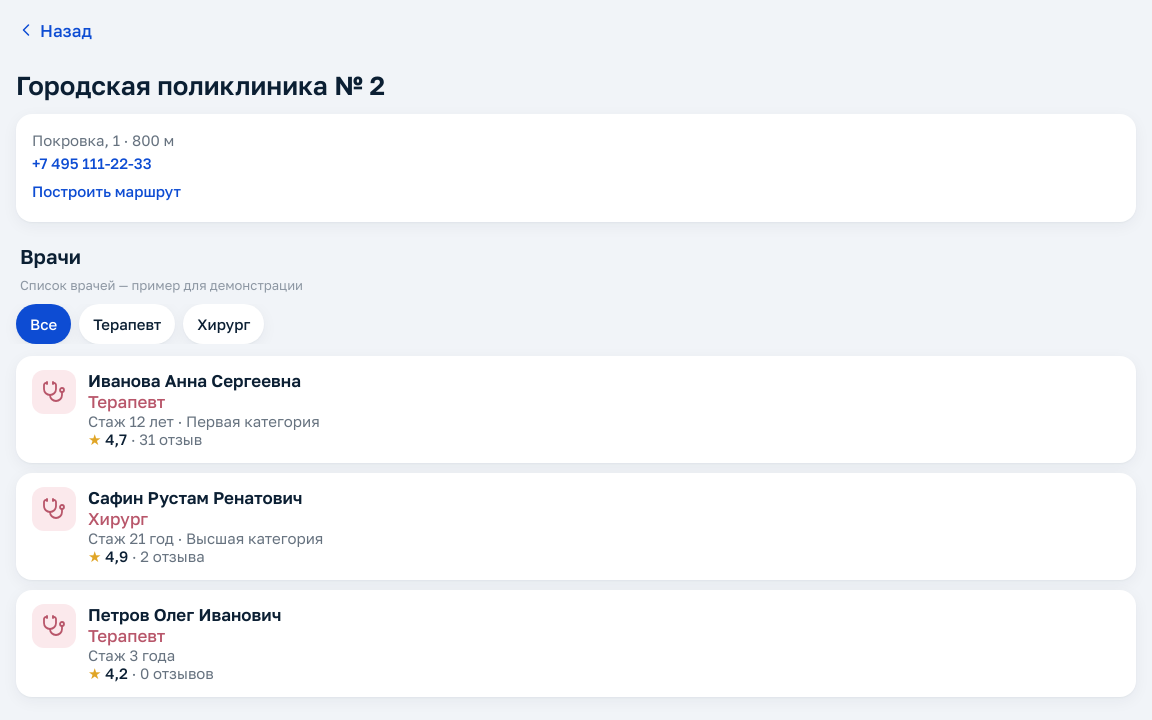
Test case: ClinicPage › показывает врачей со стажем и категорией, фильтрует по специальности
The image size is (1152, 720).
Check: the heading "Городская поликлиника № 2" is shown, box [16,70,385,101]
Check: the text "Список врачей — пример для демонстрации" is shown, box [20,277,303,293]
Click the button "Хирург" at coordinates (224, 324), box [183,304,264,344]
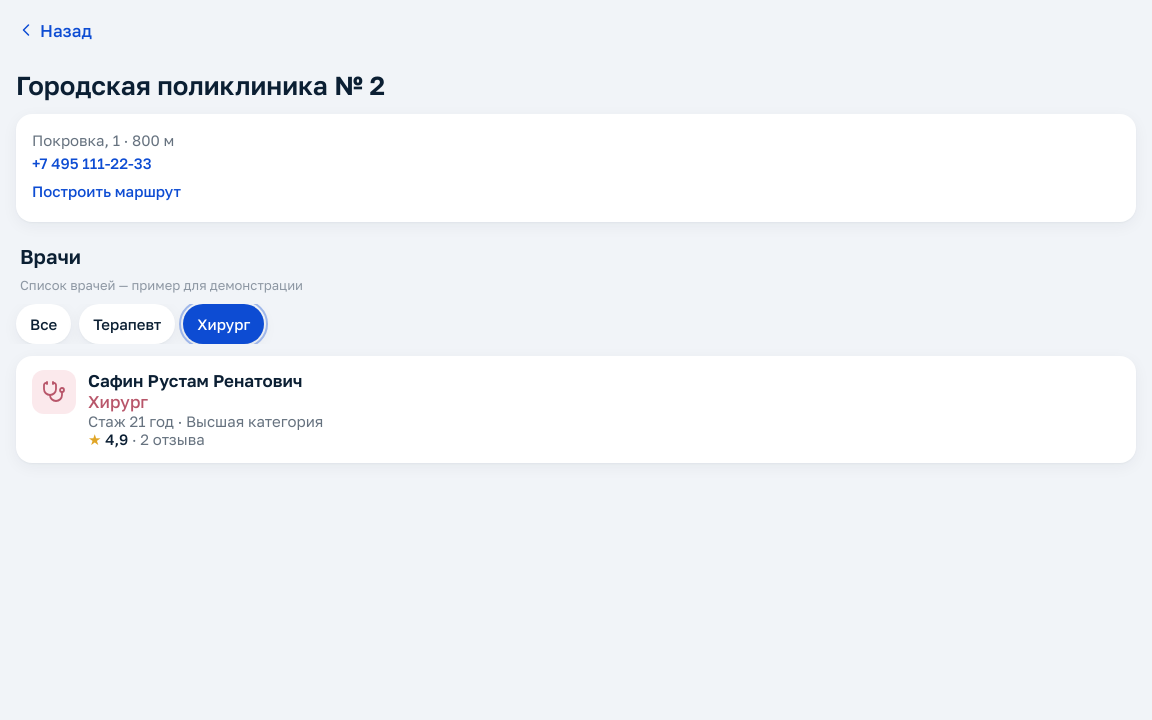
Check: the button "Иванова Анна Сергеевна" is gone
Click the text "Сафин Рустам Ренатович" at coordinates (206, 381), box [88,370,323,391]
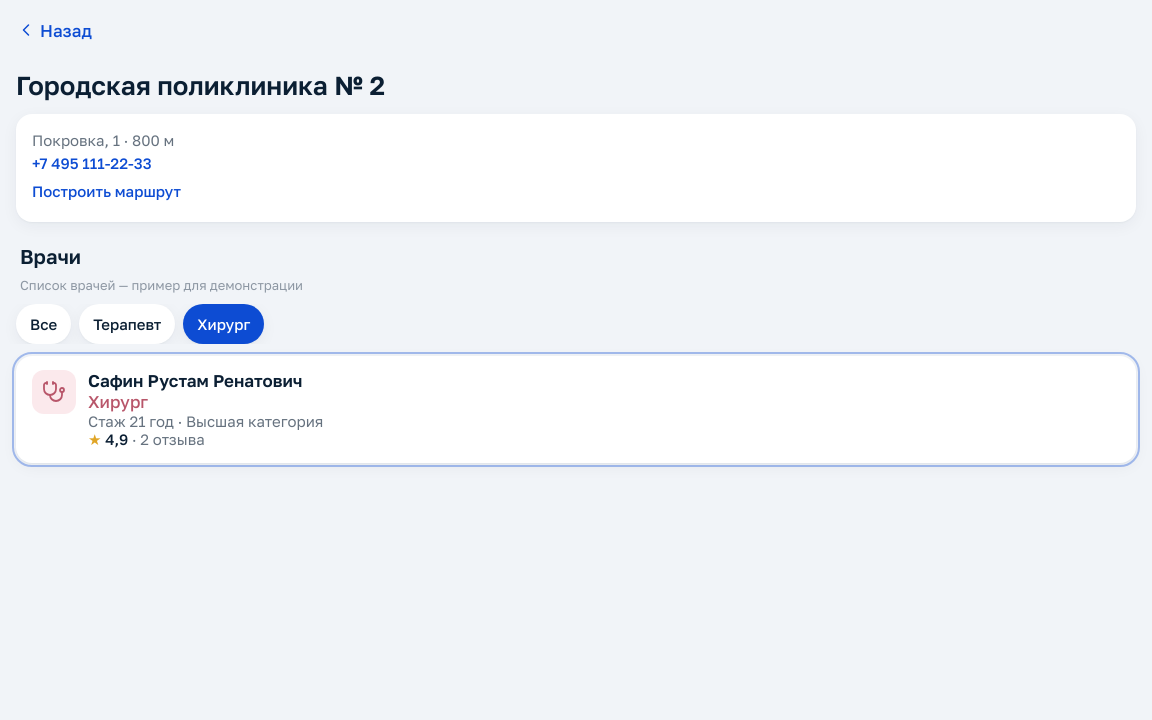
Click the button "Все" at coordinates (44, 324), box [16,304,71,344]
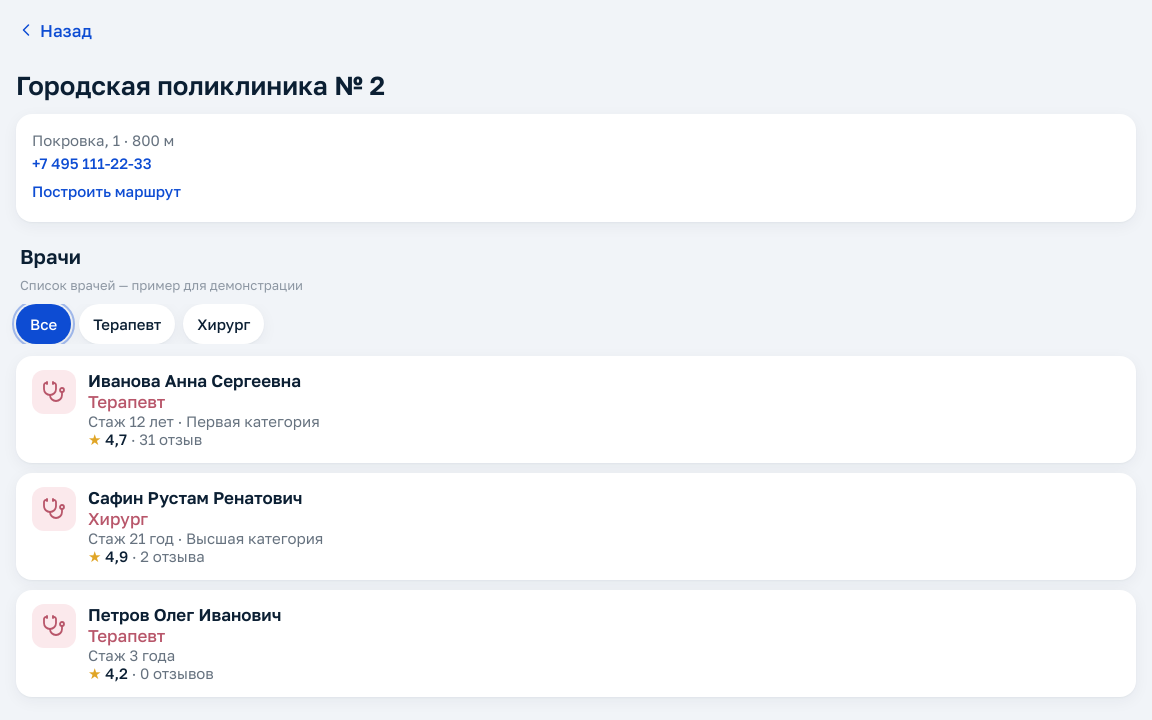
Check: the text "Иванова Анна Сергеевна" is shown, box [88,370,320,391]
